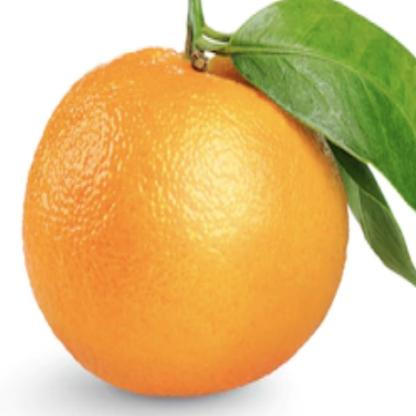fresh: (23, 47, 350, 401)
